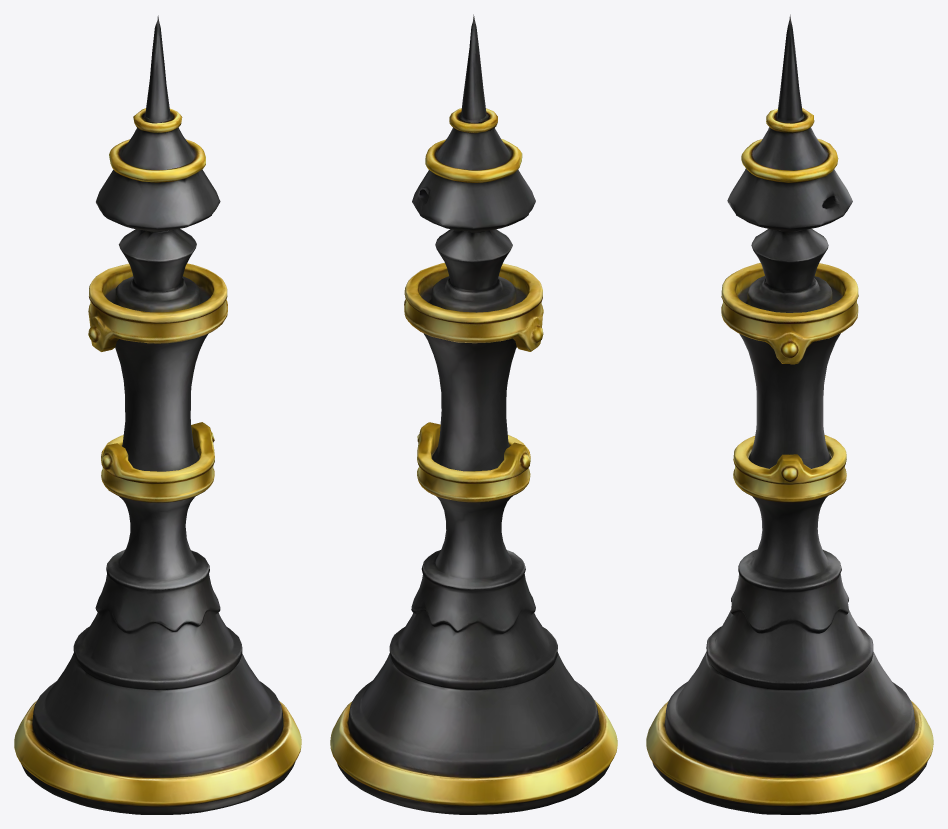
Rendered from king_chess.glb.
The picture shows the model from 3 angles, left to right: view 1: azimuth 30°, elevation 25°; view 2: azimuth 150°, elevation 25°; view 3: azimuth 270°, elevation 25°; orthographic projection.
Parts seen in each view (by area): view 1: tripo_node_02f82b67-8c96-4f4f-85f3-53a3b8419676; view 2: tripo_node_02f82b67-8c96-4f4f-85f3-53a3b8419676; view 3: tripo_node_02f82b67-8c96-4f4f-85f3-53a3b8419676.
Part boxes in pixels (x1,y1,x2,y2): tripo_node_02f82b67-8c96-4f4f-85f3-53a3b8419676: (14,15,301,814); tripo_node_02f82b67-8c96-4f4f-85f3-53a3b8419676: (330,14,617,814); tripo_node_02f82b67-8c96-4f4f-85f3-53a3b8419676: (646,14,933,814).
Bounding box in the file's own units: 0.3499 × 1 × 0.3495.
1 material, 1 textured.
